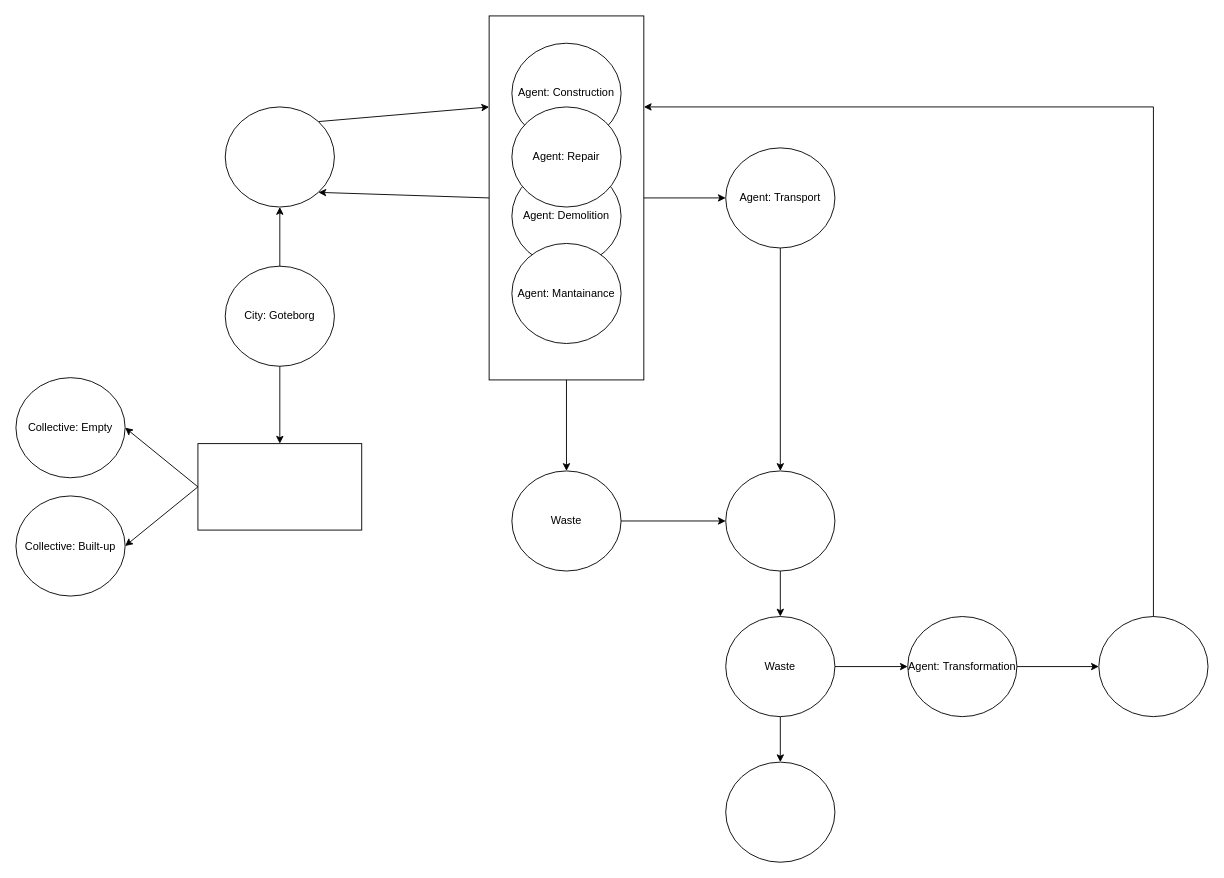
Image size: 1224x878. Some labels were removed from this diagram. The shapes that lost their labels are listed below. From the top down, each one's box as (x1, y1, x2, y2) in pixels, then its label:
(224, 106, 334, 207): Regulation: Permit
(488, 15, 644, 380): Agent: Real Estate
(197, 443, 362, 530): Zones: Plots
(725, 470, 835, 571): Container
(1098, 616, 1208, 717): Resource
(725, 761, 835, 862): Agent: Storage
